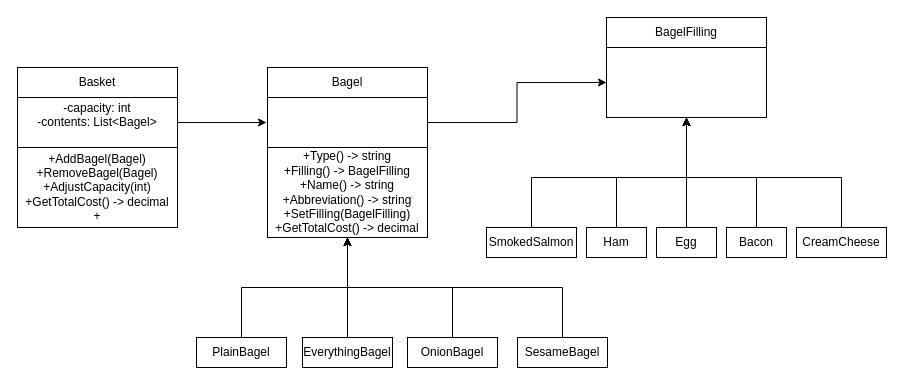
Some shapes in this 904 by 385 pixel diagram are drawn without their labels. Here are the shapes that lost their labels. From the top down, the box of each, then its label:
(606, 46, 766, 118): +Type() -> string +Name() -> string +Abbreviation() -> string +Cost() -> decimal
(266, 96, 428, 148): +bagelFilling: BagelFilling +cost: decimal
